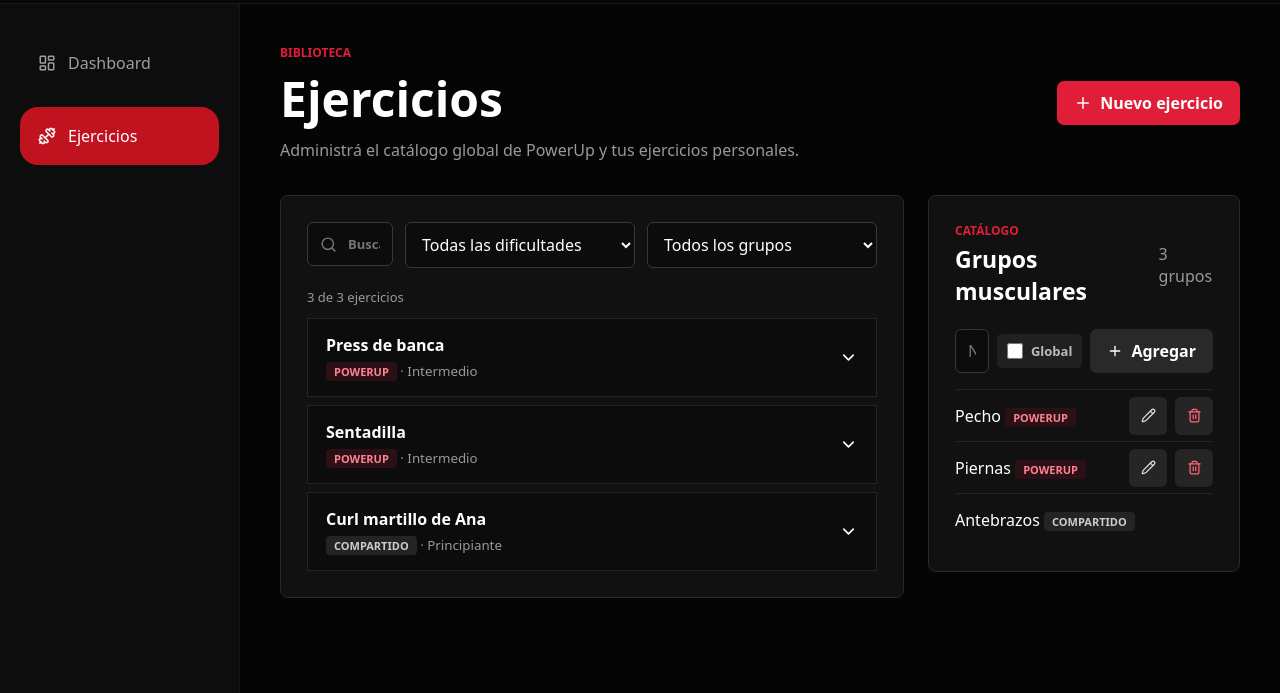
Test: catálogo de ejercicios › el admin puede publicar en el catálogo global con grupos globales
Click the button "Nuevo ejercicio" at (1149, 102), box [1057,80,1240,124]
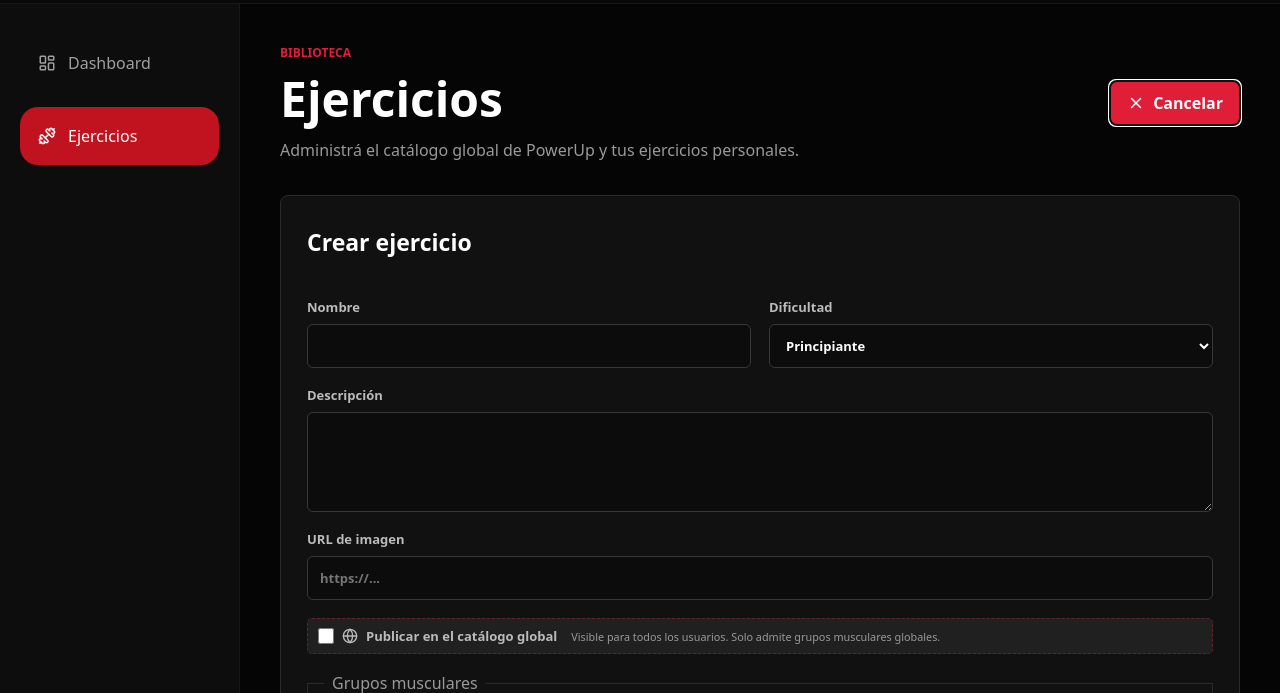
Type "Hip thrust" into the field labelled "Nombre" at (529, 346), box [307,324,751,368]
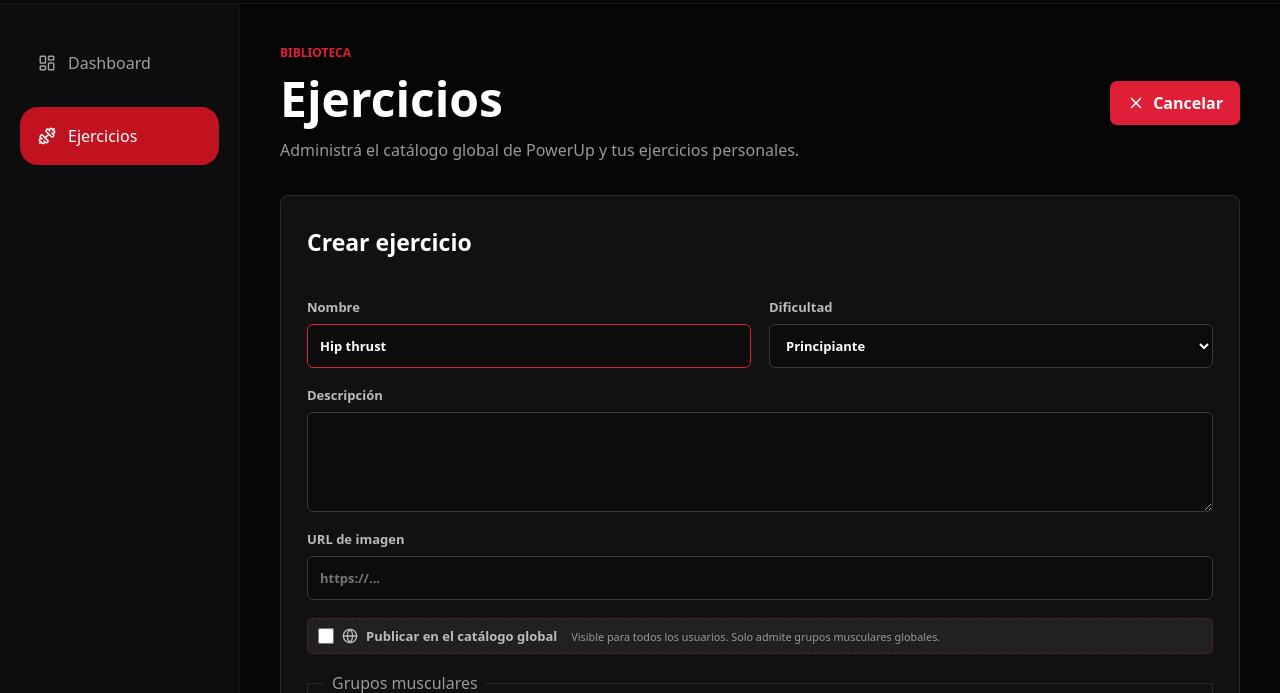
Click the checkbox labelled "Publicar en el catálogo global" at (326, 636), box [318,628,334,644]
(page scrolled)
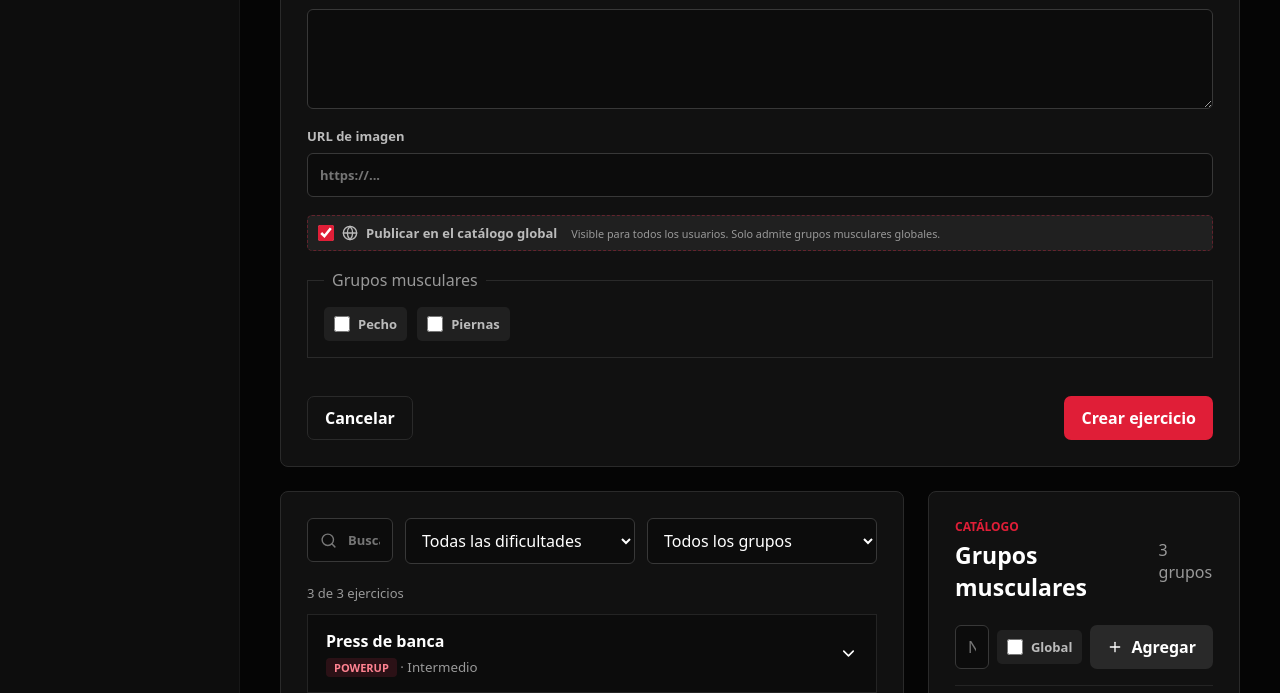
Click the checkbox labelled "Piernas" at (435, 324), box [427,316,443,332]
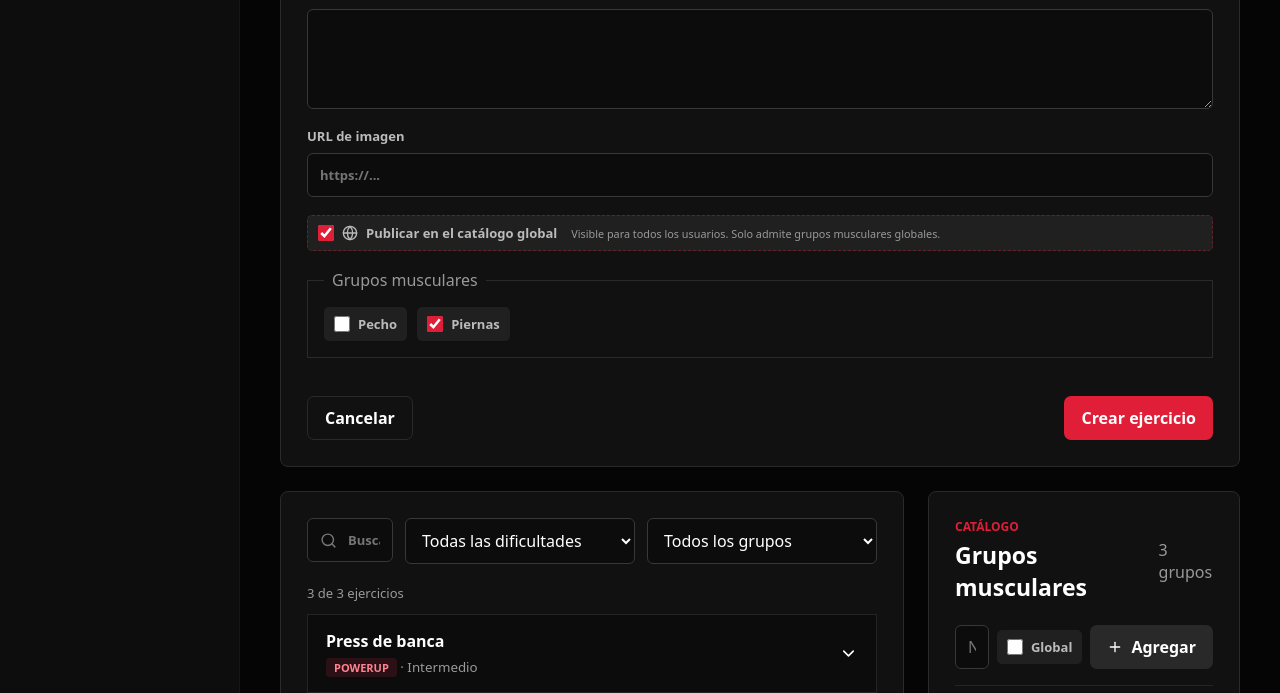
Click the button "Crear ejercicio" at (1139, 418), box [1064,396,1213,440]
(page scrolled)
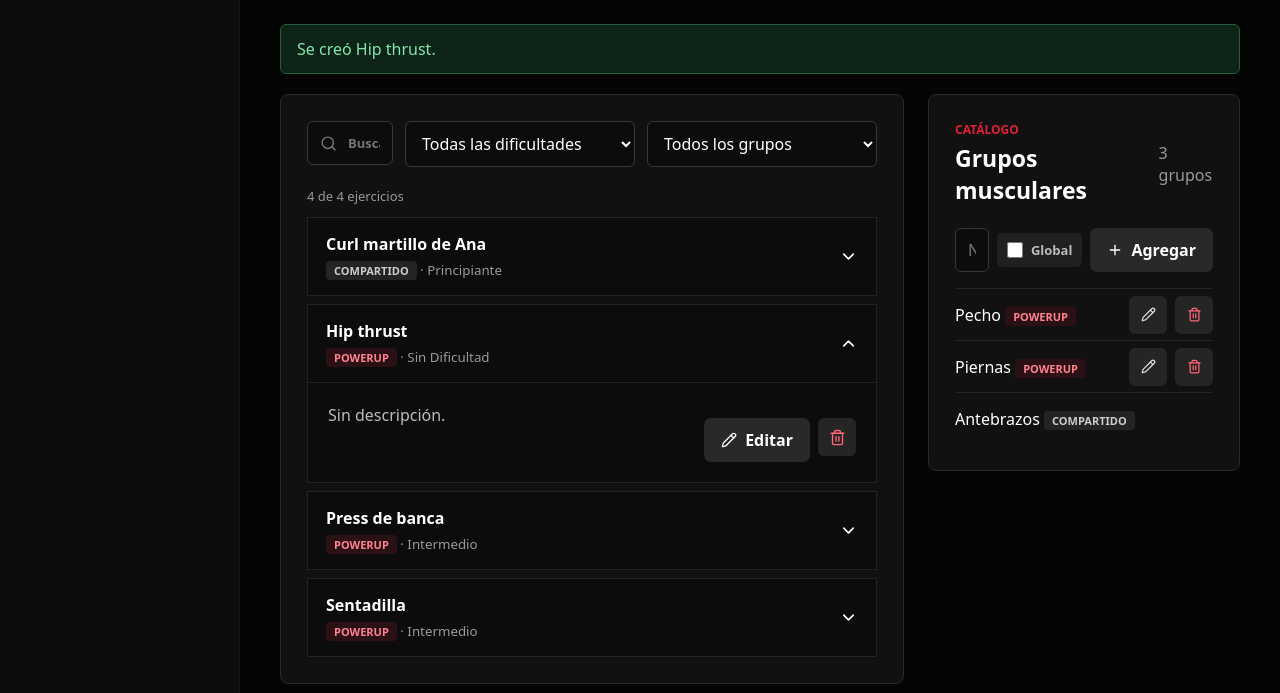
Expected: the text "Se creó Hip thrust." is shown, [280,24,1240,74]
